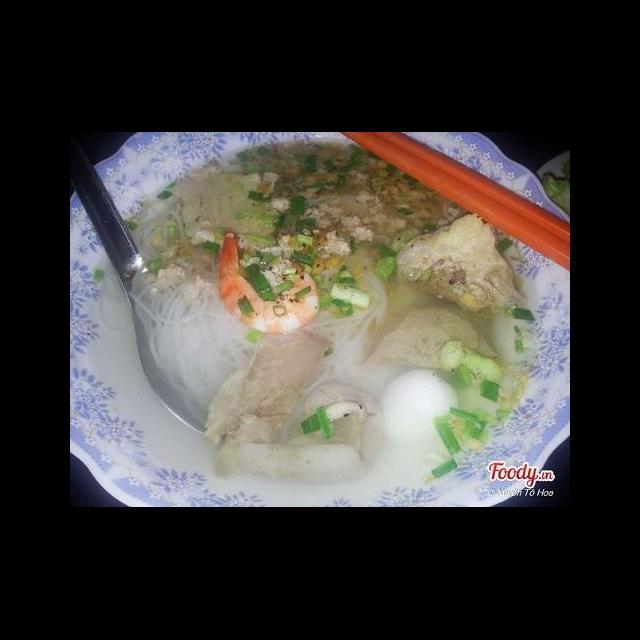banh hu tieu: (127, 266, 260, 426), (298, 242, 399, 398), (122, 200, 191, 264)
gan: (233, 376, 386, 484), (354, 298, 503, 372)
hu tieu: (97, 152, 536, 508)
thit bam: (277, 148, 436, 264), (135, 240, 225, 312), (233, 230, 300, 302)
thit heo: (201, 324, 336, 449), (388, 210, 528, 320), (166, 166, 292, 260), (208, 408, 294, 482)
tom: (212, 225, 322, 338)
trung: (375, 367, 462, 448)
